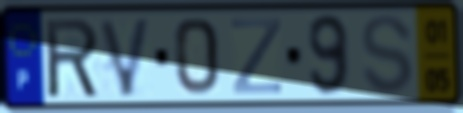0: (171, 15, 223, 98)
9: (305, 12, 351, 99)
R: (42, 15, 102, 101)
S: (358, 12, 416, 97)
V: (96, 15, 155, 100)
Z: (229, 15, 284, 97)
